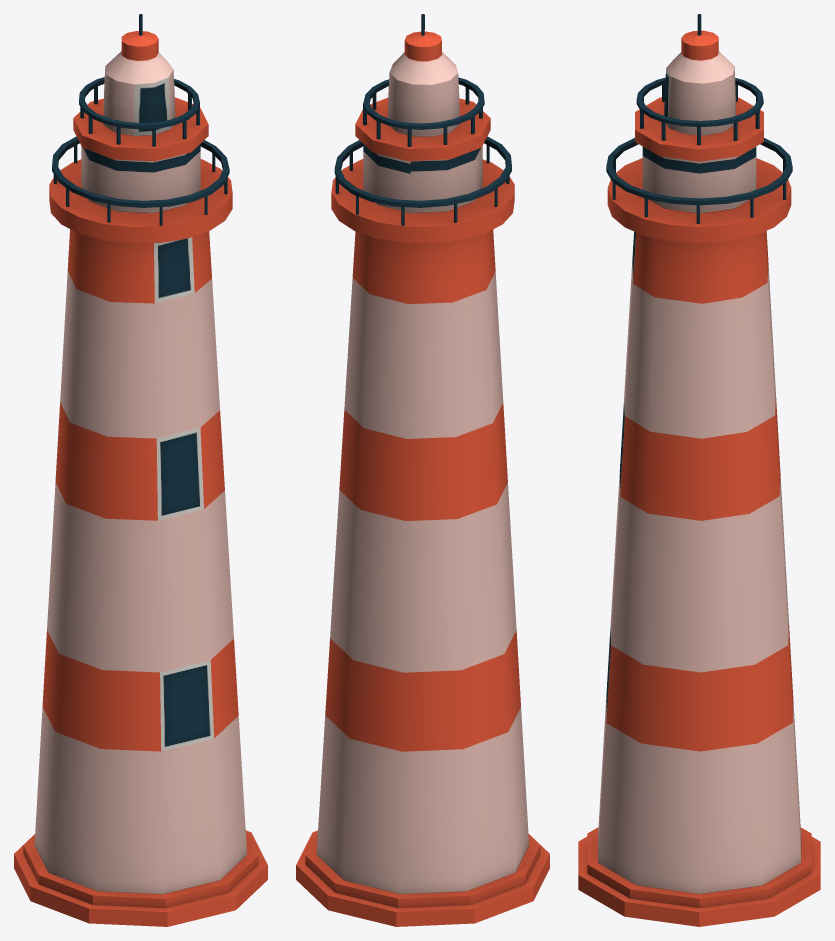
The model's file is LightHouse01.fbx.
3 renders of one model, left to right at view 1: azimuth 30°, elevation 25°; view 2: azimuth 150°, elevation 25°; view 3: azimuth 270°, elevation 25°, orthographic.
Visible parts, largest first — view 1: group1_pCylinder10; view 2: group1_pCylinder10; view 3: group1_pCylinder10.
Boxes of the visible parts, left/top/right/bottom form: group1_pCylinder10: left=14, top=14, right=267, bottom=926; group1_pCylinder10: left=296, top=14, right=549, bottom=926; group1_pCylinder10: left=578, top=14, right=820, bottom=926.
Bounding box in the file's own units: 395 × 1466 × 375.
